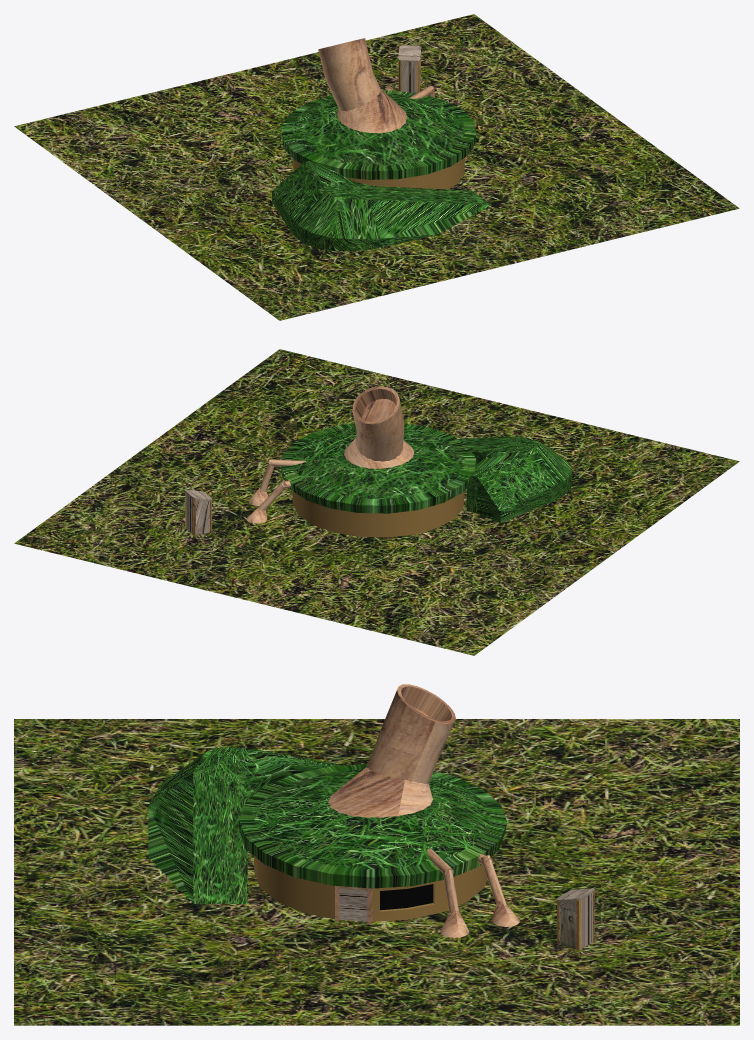
The model's file is maya2sketchfab.fbx.
The picture shows the model from 3 angles, top to bottom: view 1: azimuth 30°, elevation 25°; view 2: azimuth 150°, elevation 25°; view 3: azimuth 270°, elevation 25°; orthographic projection. The views are drawn at different scales.
Visible parts, largest first — view 1: pPlane1, pCylinder1, pCube2, pCylinder2, pCone1, pCube1; view 2: pPlane1, pCylinder1, pCube2, pCylinder2, pCube1, pCone1; view 3: pPlane1, pCylinder1, pCube2, pCylinder2, pCone1, pCube1.
Part boxes in pixels (x1=…): pPlane1: x1=14, y1=14, x2=739, y2=320; pCylinder1: x1=280, y1=90, x2=475, y2=189; pCube2: x1=272, y1=161, x2=491, y2=251; pCylinder2: x1=318, y1=38, x2=380, y2=111; pCone1: x1=337, y1=88, x2=407, y2=133; pCube1: x1=398, y1=45, x2=421, y2=92; pPlane1: x1=14, y1=349, x2=739, y2=655; pCylinder1: x1=280, y1=423, x2=475, y2=537; pCube2: x1=458, y1=436, x2=572, y2=523; pCylinder2: x1=352, y1=386, x2=404, y2=461; pCube1: x1=185, y1=489, x2=212, y2=535; pCone1: x1=344, y1=438, x2=414, y2=468; pPlane1: x1=14, y1=719, x2=739, y2=1025; pCylinder1: x1=239, y1=764, x2=507, y2=924; pCube2: x1=148, y1=747, x2=340, y2=903; pCylinder2: x1=366, y1=684, x2=455, y2=784; pCone1: x1=328, y1=767, x2=432, y2=817; pCube1: x1=556, y1=888, x2=594, y2=950.
Size of the model in its own units: 44.66 by 14.37 by 44.66.
9 materials, 6 textured.
